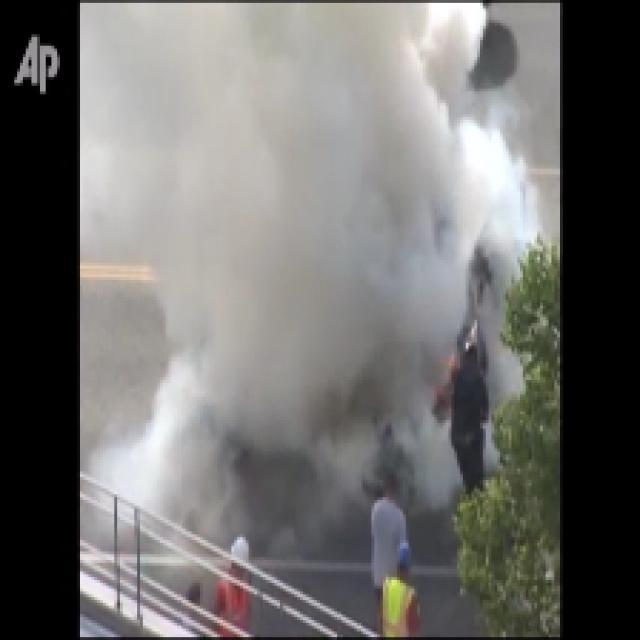Smoke: (237, 140, 443, 429)
